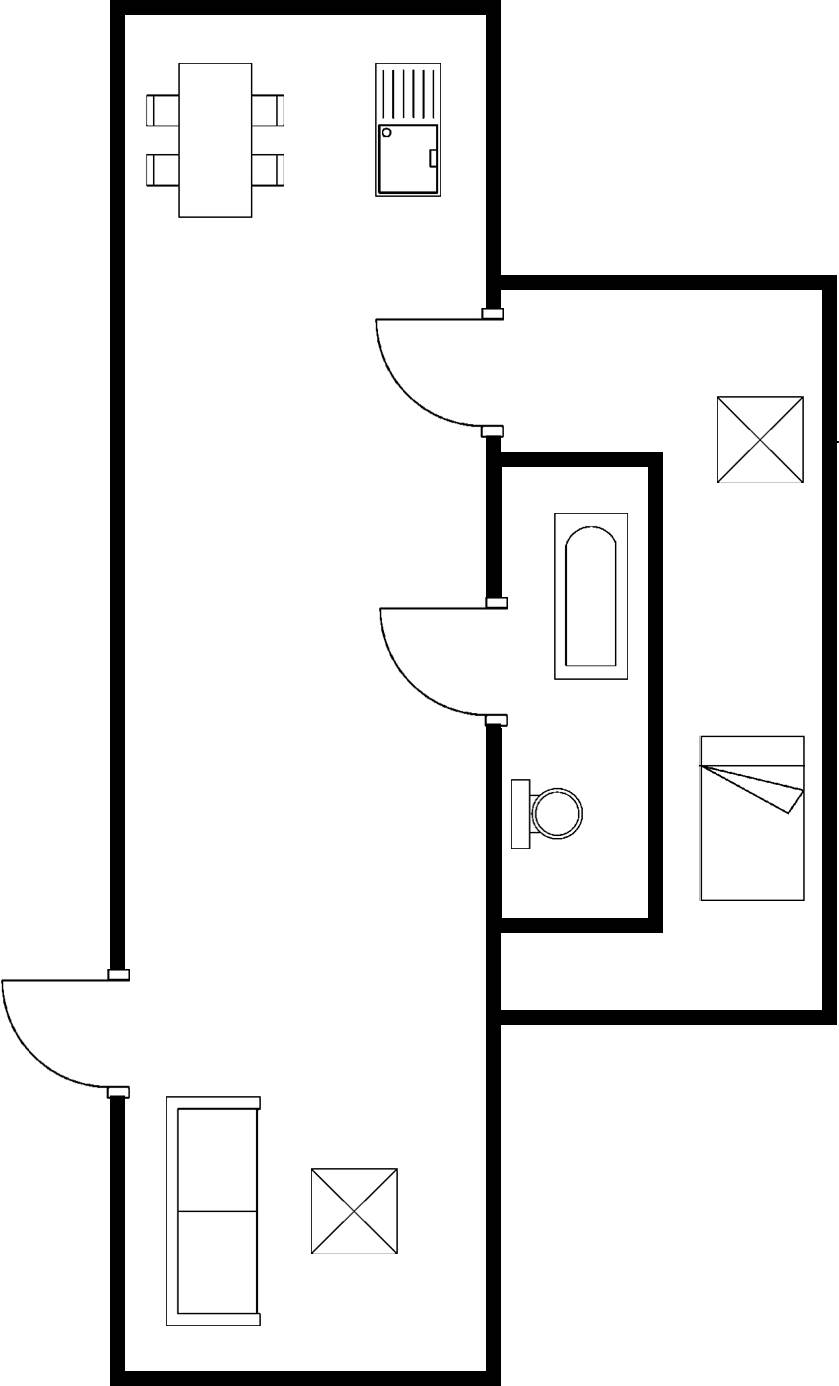bed: (694, 729, 813, 907)
coffee_table: (302, 1159, 409, 1263), (710, 390, 811, 492)
dining_table: (134, 54, 299, 227)
large_sink: (505, 772, 588, 860)
large_sofa: (157, 1088, 268, 1337)
sink: (365, 50, 450, 203)
tub: (545, 503, 637, 688)
